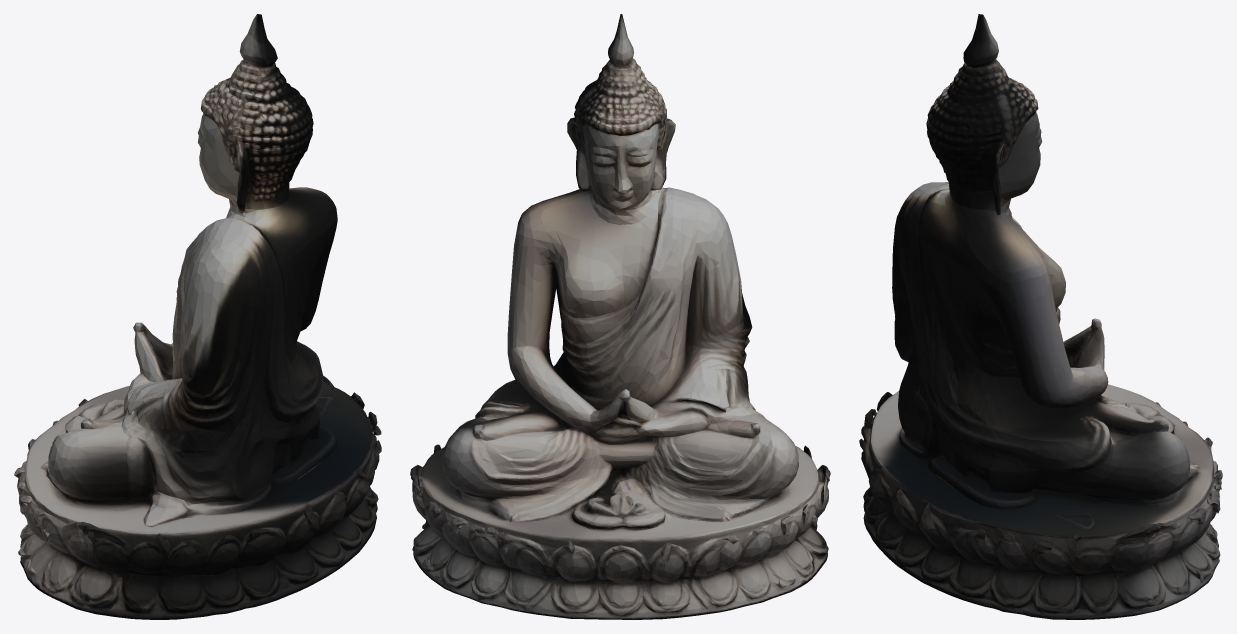
Rendered from buddy.gltf.
The picture shows the model from 3 angles, left to right: view 1: azimuth 30°, elevation 25°; view 2: azimuth 150°, elevation 25°; view 3: azimuth 270°, elevation 25°; orthographic projection. The views are drawn at different scales.
Parts seen in each view (by area): view 1: world; view 2: world; view 3: world.
Part boxes in pixels (box(x1,y1,x2,y2)): world: box(14, 14, 381, 619); world: box(410, 14, 830, 619); world: box(859, 14, 1222, 619).
Bounding box in the file's own units: 3.25 × 4.6 × 2.83.
1 material, 1 textured.
